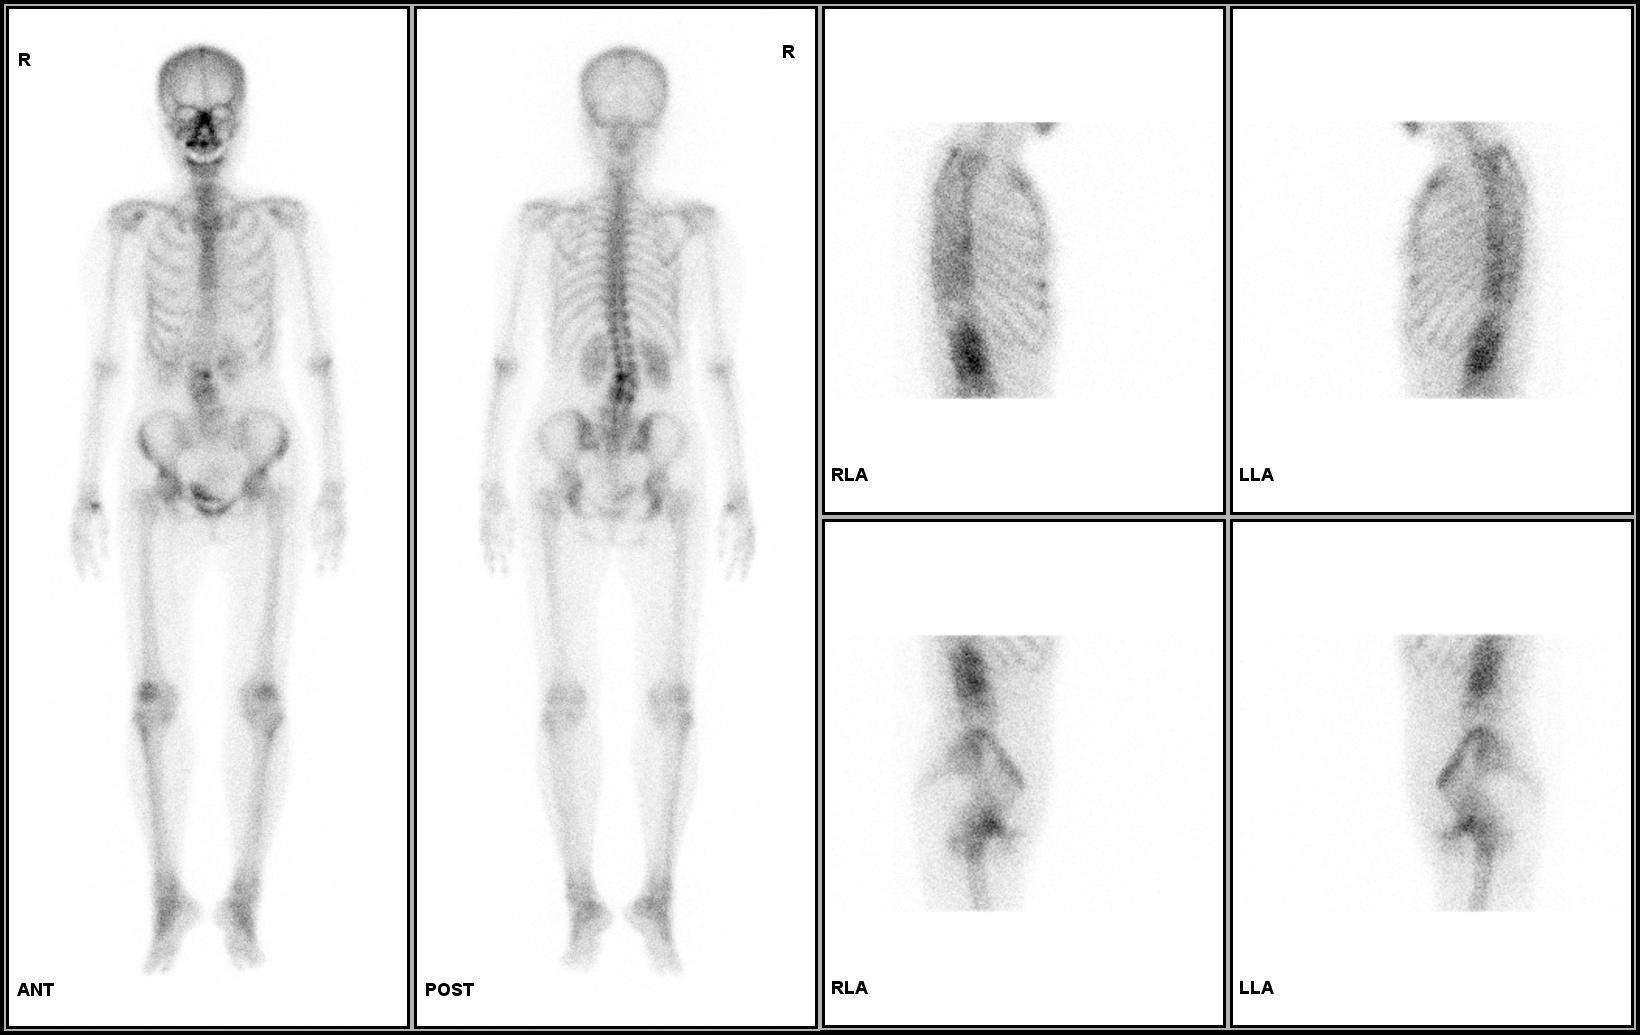person: (7, 8, 817, 1027)
